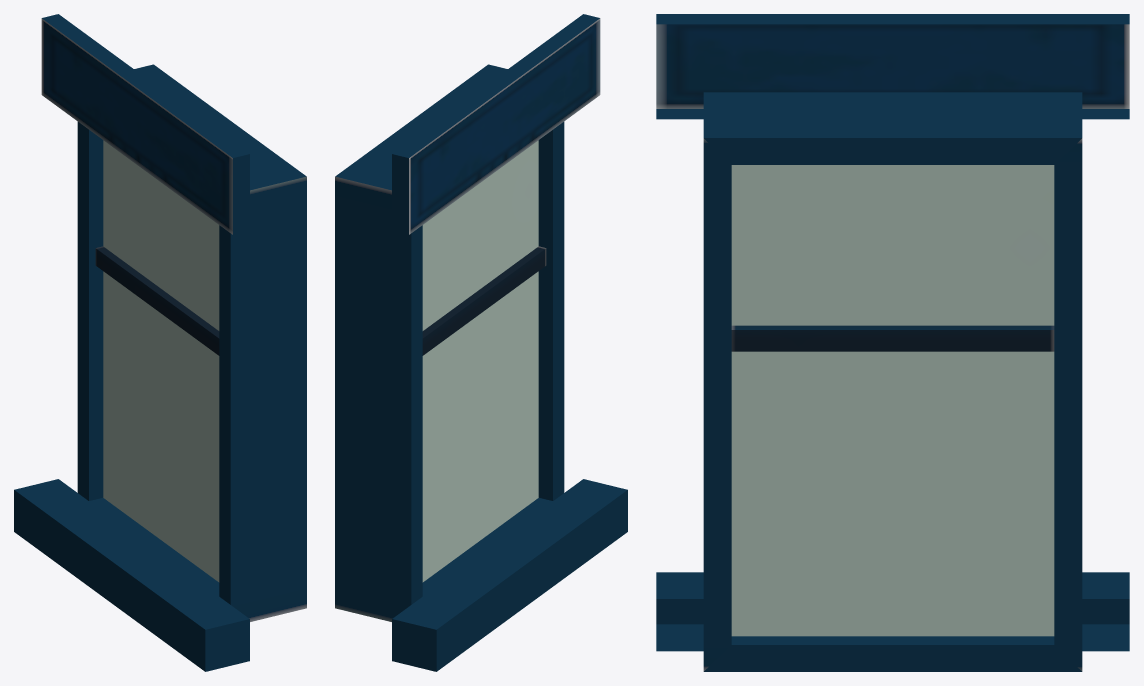
Rendered from Window_02.fbx.
3 renders of one model, left to right at view 1: azimuth 30°, elevation 25°; view 2: azimuth 150°, elevation 25°; view 3: azimuth 270°, elevation 25°, orthographic. The views are drawn at different scales.
Visible parts, largest first — view 1: Window_02; view 2: Window_02; view 3: Window_02.
Part boxes in pixels (<box>): Window_02: <box>14,14,306,671</box>; Window_02: <box>335,14,627,671</box>; Window_02: <box>656,14,1129,671</box>.
Bounding box in the file's own units: 79.2 × 319 × 218.
